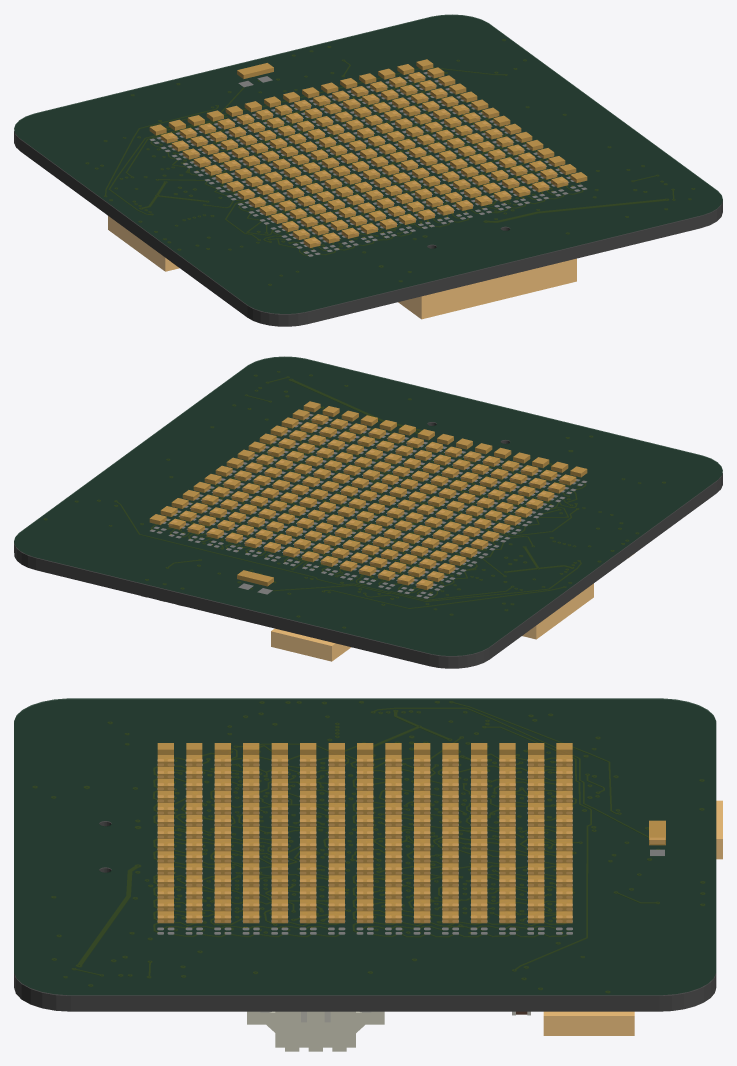
Rendered from board.glb.
3 views of the same model, one above another, from view 1: azimuth 30°, elevation 25°; view 2: azimuth 150°, elevation 25°; view 3: azimuth 270°, elevation 25° (orthographic). The views are drawn at different scales.
Parts seen in each view (by area): view 1: routed_raw_8L_soldermask, routed_raw_8L_PCB, routed_raw_8L_pad, J1, routed_raw_8L_copper, U3; view 2: routed_raw_8L_soldermask, routed_raw_8L_PCB, routed_raw_8L_pad, routed_raw_8L_copper, SW2, U3; view 3: routed_raw_8L_soldermask, routed_raw_8L_PCB, routed_raw_8L_pad, routed_raw_8L_copper, Molex_PicoBlade_53261-0271_1x02-1MP_P1.25mm_Horizontal, SW1.
Boxes of the visible parts, <box> form: routed_raw_8L_soldermask: <box>14,14,722,313</box>; routed_raw_8L_PCB: <box>14,16,722,326</box>; routed_raw_8L_pad: <box>150,72,586,256</box>; J1: <box>398,258,576,319</box>; routed_raw_8L_copper: <box>100,40,694,285</box>; U3: <box>108,216,179,271</box>; routed_raw_8L_soldermask: <box>14,356,722,655</box>; routed_raw_8L_PCB: <box>14,358,722,668</box>; routed_raw_8L_pad: <box>150,414,586,598</box>; routed_raw_8L_copper: <box>97,372,665,627</box>; SW2: <box>271,628,350,661</box>; U3: <box>522,583,593,639</box>; routed_raw_8L_soldermask: <box>14,698,716,995</box>; routed_raw_8L_PCB: <box>14,700,716,1011</box>; routed_raw_8L_pad: <box>157,759,664,934</box>; routed_raw_8L_copper: <box>33,702,704,992</box>; Molex_PicoBlade_53261-0271_1x02-1MP_P1.25mm_Horizontal: <box>247,1011,384,1051</box>; SW1: <box>543,1011,634,1035</box>.
Size of the model in its own units: 0.0373 by 0.0054 by 0.0374.
